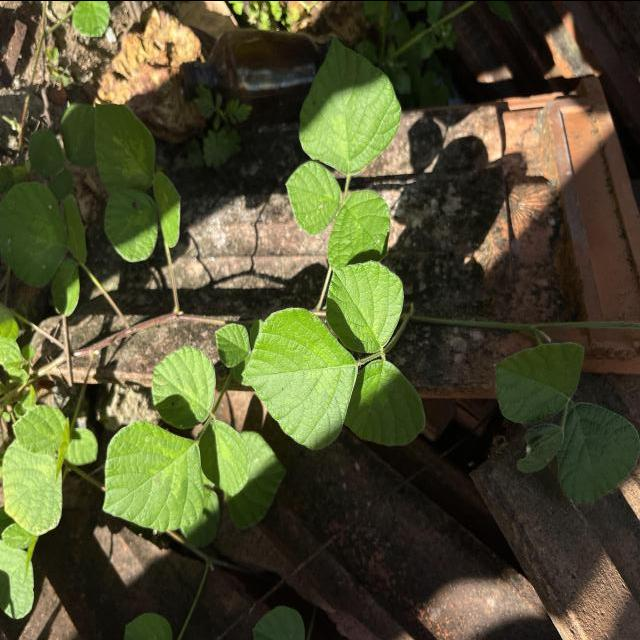Pseudarthria viscida: (238, 258, 429, 453), (284, 32, 404, 270), (101, 344, 251, 534)
